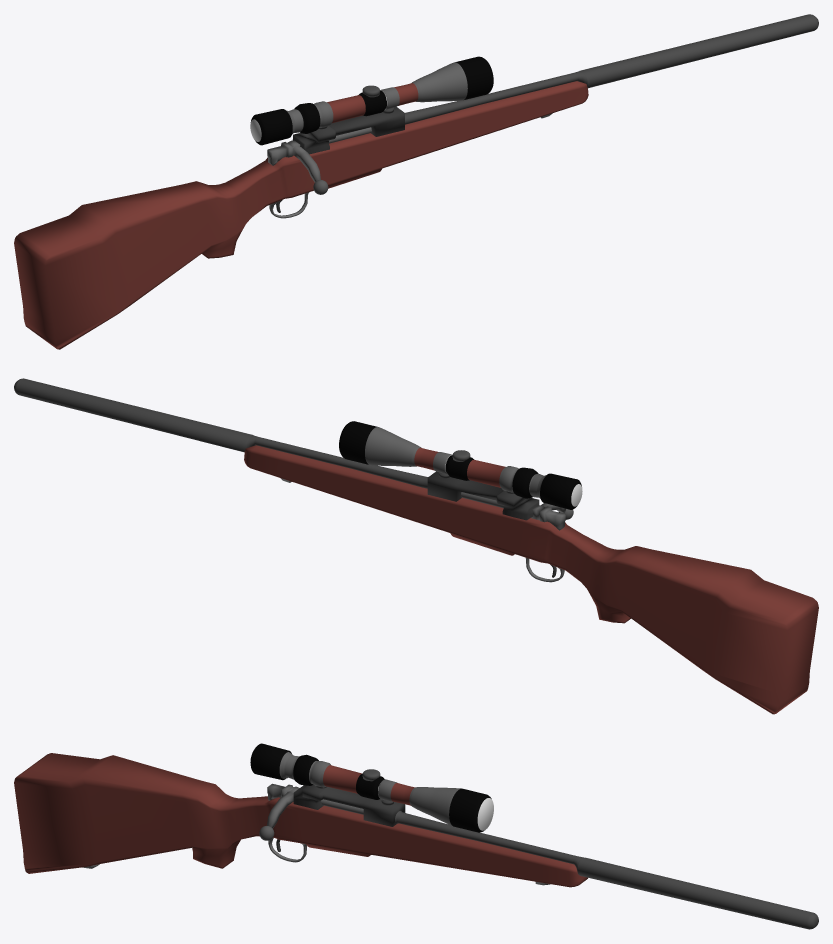
File: Sniper.fbx
The picture shows the model from 3 angles, top to bottom: view 1: azimuth 30°, elevation 25°; view 2: azimuth 150°, elevation 25°; view 3: azimuth 330°, elevation 25°; orthographic projection.
Visible parts, largest first — view 1: Cube, Cylinder.004, Cylinder, Cube.001, Cube.002; view 2: Cube, Cylinder.004, Cylinder, Cube.001, Cube.002; view 3: Cube, Cylinder.004, Cylinder, Cube.001, Cube.002.
Boxes of the visible parts, <box> form: Cube: <box>14,81,588,349</box>; Cylinder.004: <box>250,56,493,145</box>; Cylinder: <box>405,14,818,124</box>; Cube.001: <box>292,107,404,154</box>; Cube.002: <box>267,140,320,182</box>; Cube: <box>244,445,818,714</box>; Cylinder.004: <box>339,421,582,509</box>; Cylinder: <box>14,378,427,488</box>; Cube.001: <box>427,471,539,520</box>; Cube.002: <box>531,503,565,530</box>; Cube: <box>14,753,587,887</box>; Cylinder.004: <box>250,743,493,832</box>; Cylinder: <box>395,811,818,929</box>; Cube.001: <box>293,784,405,826</box>; Cube.002: <box>267,783,299,828</box>.
Size of the model in its own units: 488 by 103 by 49.93.
